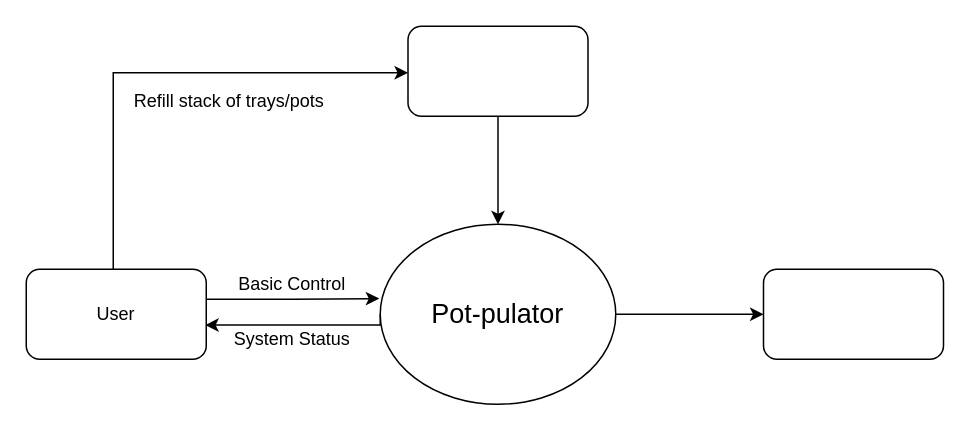
This 971x431 diagram has some shape labels left out. Each missing label, with the centre of its shape:
"Stack of trays/pots" belongs at [497,70].
"Trays filled with pots" belongs at [853,313].
